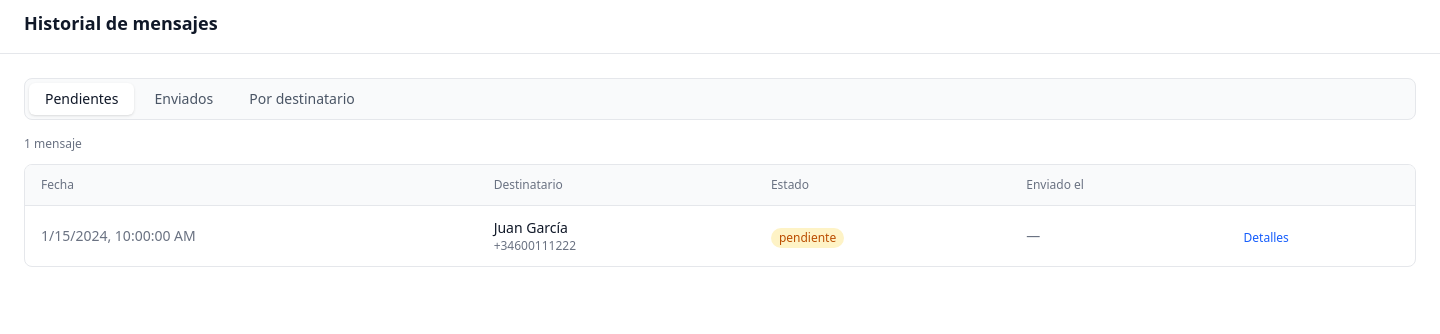
Test: OutboxPage › shows date filters when switching to the Enviados tab
Click the button "Enviados" at (184,99), box top-left (138, 83), bottom-right (229, 115)
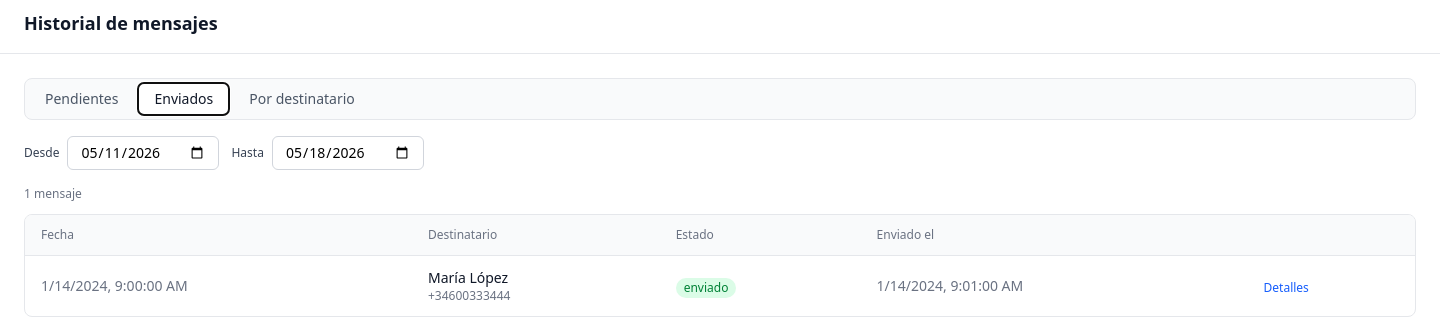
Check: the text "Desde" is shown, box top-left (24, 145), bottom-right (59, 161)
Check: the text "Hasta" is shown, box top-left (231, 145), bottom-right (264, 161)
